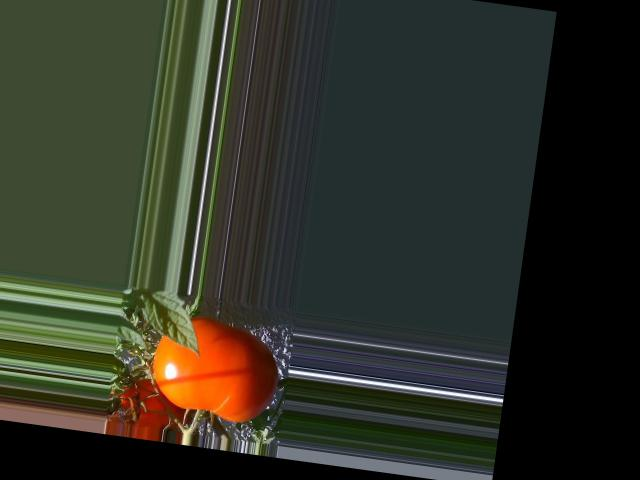tomato: (146, 311, 284, 426)
